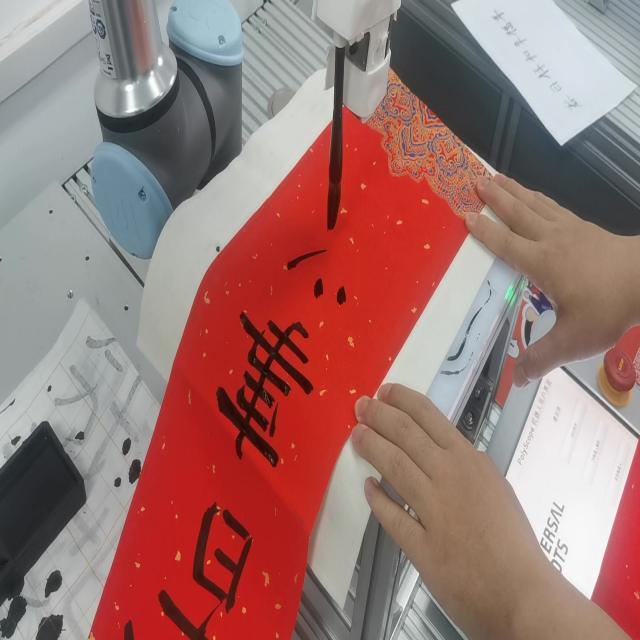head: (325, 178, 344, 236)
inkstone: (0, 420, 88, 616)
